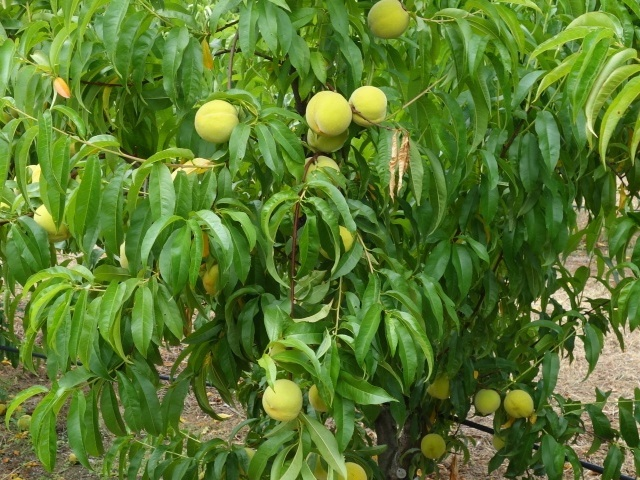peach: (299, 86, 355, 139), (191, 98, 245, 145), (254, 376, 306, 424), (28, 200, 76, 248), (343, 84, 392, 131), (362, 1, 411, 40), (300, 153, 347, 189), (317, 221, 357, 262), (499, 387, 537, 422), (303, 378, 337, 417), (422, 365, 456, 403), (197, 262, 226, 301), (472, 384, 503, 417), (418, 430, 448, 463), (332, 459, 369, 479), (487, 427, 514, 454)
